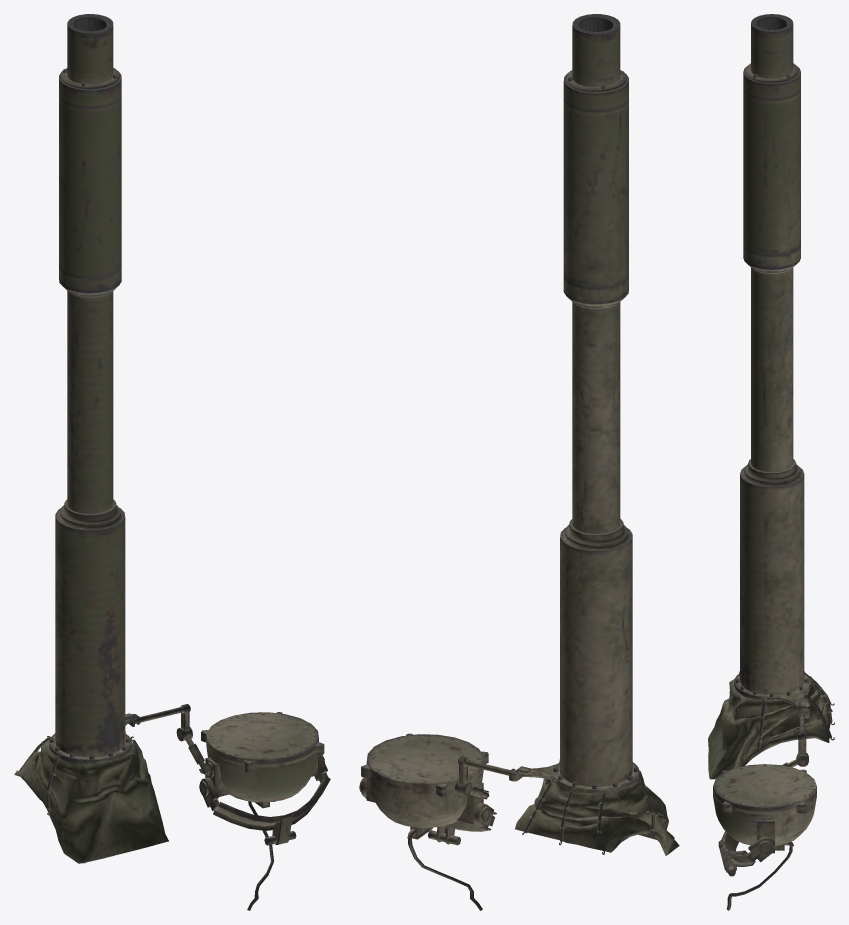
Rendered from Gun_01.glb.
The picture shows the model from 3 angles, left to right: view 1: azimuth 30°, elevation 25°; view 2: azimuth 150°, elevation 25°; view 3: azimuth 270°, elevation 25°; orthographic projection. The views are drawn at different scales.
Visible parts, largest first — view 1: set_0_group_0; view 2: set_0_group_0; view 3: set_0_group_0.
Boxes of the visible parts, bbox=[...] form: set_0_group_0: bbox=[14, 14, 330, 910]; set_0_group_0: bbox=[359, 14, 679, 910]; set_0_group_0: bbox=[708, 14, 834, 910].
Bounding box in the file's own units: 0.976 × 3.02 × 0.4208.
1 material, 1 textured.
